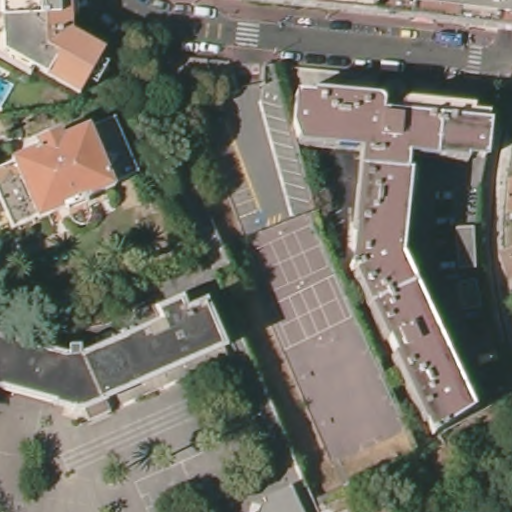pool: (1, 78, 16, 113)
